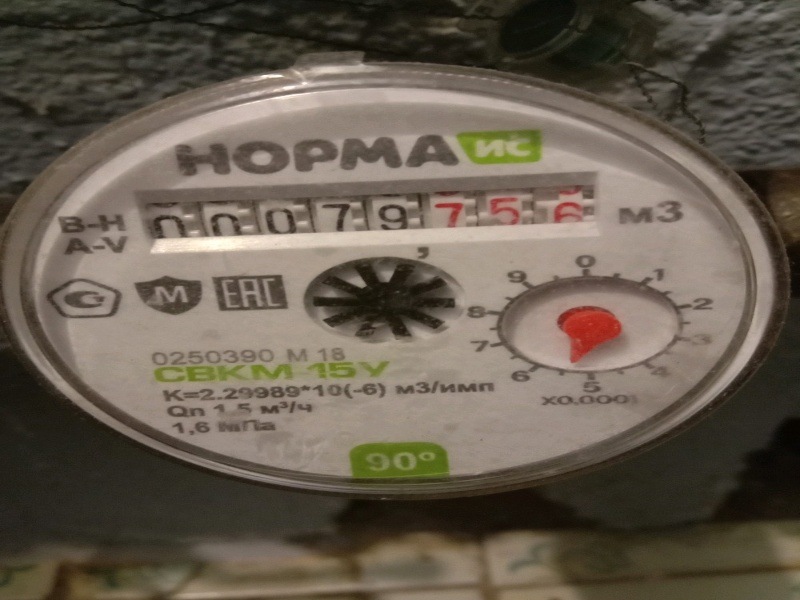meter: (141, 197, 599, 250)
